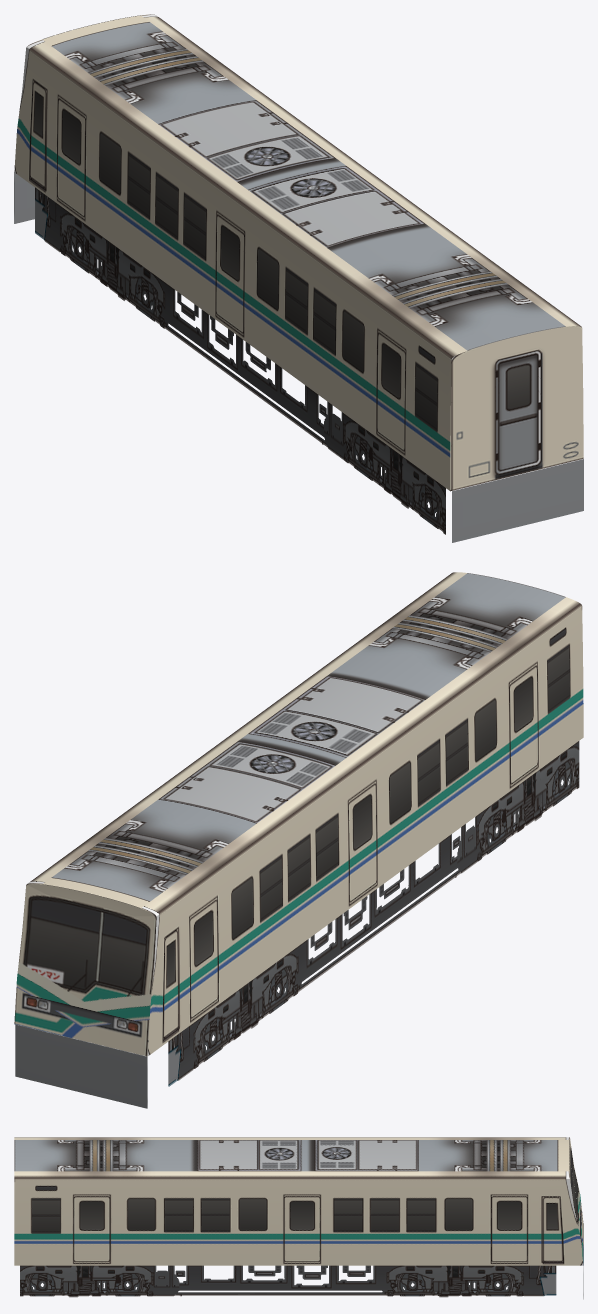
File: car2.glb
The picture shows the model from 3 angles, top to bottom: view 1: azimuth 30°, elevation 25°; view 2: azimuth 150°, elevation 25°; view 3: azimuth 270°, elevation 25°; orthographic projection. The views are drawn at different scales.
Visible parts, largest first — view 1: car2.glb; view 2: car2.glb; view 3: car2.glb.
Part boxes in pixels (<box>): car2.glb: <box>14,14,583,542</box>; car2.glb: <box>14,572,583,1108</box>; car2.glb: <box>14,1137,583,1299</box>.
Bounding box in the file's own units: 2.69 × 3.67 × 15.25.
Materials: 8 (7 with a texture image).
